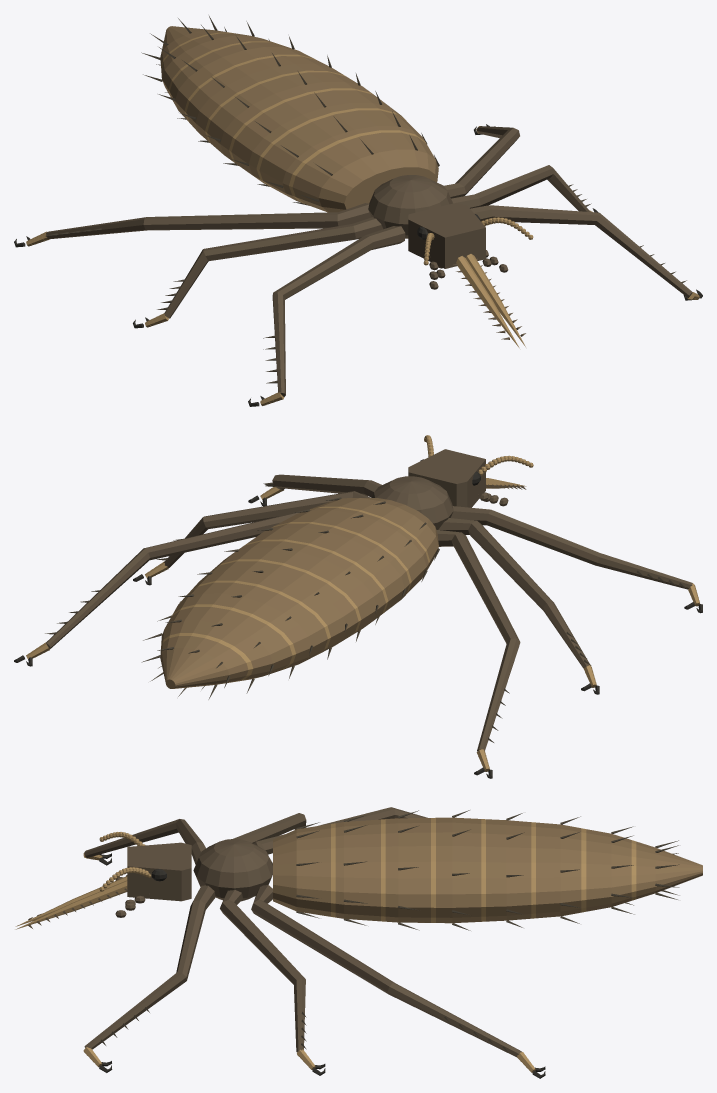
3 renders of one model, top to bottom at view 1: azimuth 30°, elevation 25°; view 2: azimuth 150°, elevation 25°; view 3: azimuth 270°, elevation 25°, orthographic. The views are drawn at different scales.
Visible parts, largest first — view 1: continuous_broad_abdomen_with_integral_suggested_bands, six_coxae_and_long_legs, small_trapezoid_head, compact_wingless_thorax, paired_elongate_serrated_laciniae, posterior_directed_abdominal_setae, five_subdivided_tarsi_per_leg; view 2: continuous_broad_abdomen_with_integral_suggested_bands, six_coxae_and_long_legs, small_trapezoid_head, compact_wingless_thorax, posterior_directed_abdominal_setae, five_subdivided_tarsi_per_leg, paired_scythe_like_claws_on_six_feet; view 3: continuous_broad_abdomen_with_integral_suggested_bands, six_coxae_and_long_legs, compact_wingless_thorax, small_trapezoid_head, posterior_directed_abdominal_setae, paired_elongate_serrated_laciniae, sixteen_compact_flagellar_beads, five_subdivided_tarsi_per_leg.
Boxes of the visible parts, <box> form: continuous_broad_abdomen_with_integral_suggested_bands: <box>160,26,438,212</box>; six_coxae_and_long_legs: <box>45,126,692,396</box>; small_trapezoid_head: <box>408,202,485,268</box>; compact_wingless_thorax: <box>368,175,452,238</box>; paired_elongate_serrated_laciniae: <box>456,254,525,348</box>; posterior_directed_abdominal_setae: <box>141,16,439,205</box>; five_subdivided_tarsi_per_leg: <box>26,126,699,405</box>; continuous_broad_abdomen_with_integral_suggested_bands: <box>160,498,438,688</box>; six_coxae_and_long_legs: <box>46,474,692,751</box>; small_trapezoid_head: <box>408,449,485,507</box>; compact_wingless_thorax: <box>372,476,453,529</box>; posterior_directed_abdominal_setae: <box>141,497,439,699</box>; five_subdivided_tarsi_per_leg: <box>26,487,699,771</box>; paired_scythe_like_claws_on_six_feet: <box>14,495,702,778</box>; continuous_broad_abdomen_with_integral_suggested_bands: <box>273,817,702,923</box>; six_coxae_and_long_legs: <box>84,807,521,1057</box>; compact_wingless_thorax: <box>193,839,272,901</box>; small_trapezoid_head: <box>127,842,191,901</box>; posterior_directed_abdominal_setae: <box>296,810,679,930</box>; paired_elongate_serrated_laciniae: <box>15,876,127,929</box>; sixteen_compact_flagellar_beads: <box>99,832,150,891</box>; five_subdivided_tarsi_per_leg: <box>83,852,535,1072</box>.
Bounding box in the file's own units: 0.0159 × 0.00457 × 0.0203.
